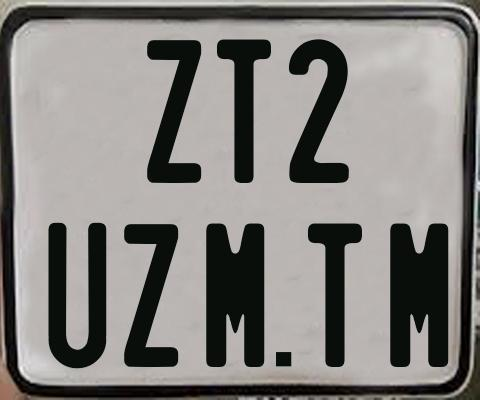2: (289, 36, 349, 186)
M: (206, 223, 270, 370), (388, 221, 451, 367)
T: (214, 39, 274, 184), (306, 221, 364, 370)
U: (45, 220, 106, 366)
Z: (147, 38, 205, 185), (122, 223, 180, 366)
